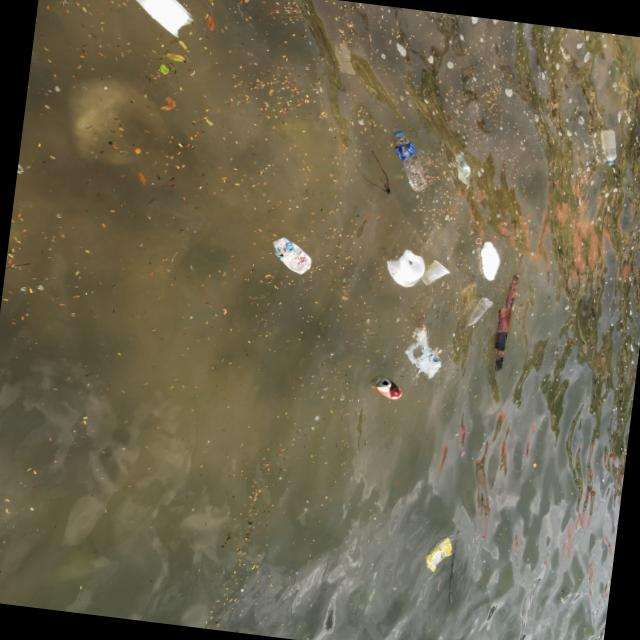can: (374, 377, 402, 400)
foam: (124, 1, 195, 40), (383, 248, 427, 289), (476, 241, 503, 282)
plastic bottle: (396, 129, 429, 193), (462, 295, 493, 336), (597, 129, 619, 167)
